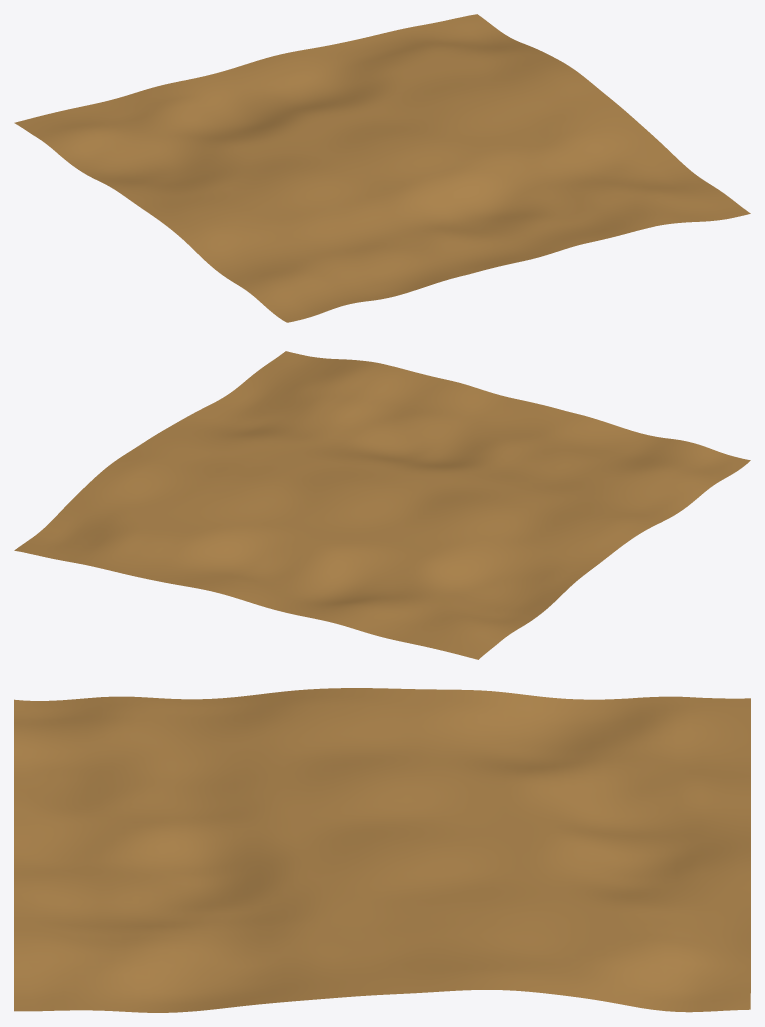
The model's file is terre_carre10.fbx.
3 views of the same model, one above another, from view 1: azimuth 30°, elevation 25°; view 2: azimuth 150°, elevation 25°; view 3: azimuth 270°, elevation 25° (orthographic). The views are drawn at different scales.
Parts seen in each view (by area): view 1: terre_carre10; view 2: terre_carre10; view 3: terre_carre10.
Part boxes in pixels (x1,y1,x2,y2): terre_carre10: (14, 14, 750, 322); terre_carre10: (14, 351, 750, 659); terre_carre10: (14, 688, 750, 1012).
Size of the model in its own units: 709 by 27.68 by 720.
